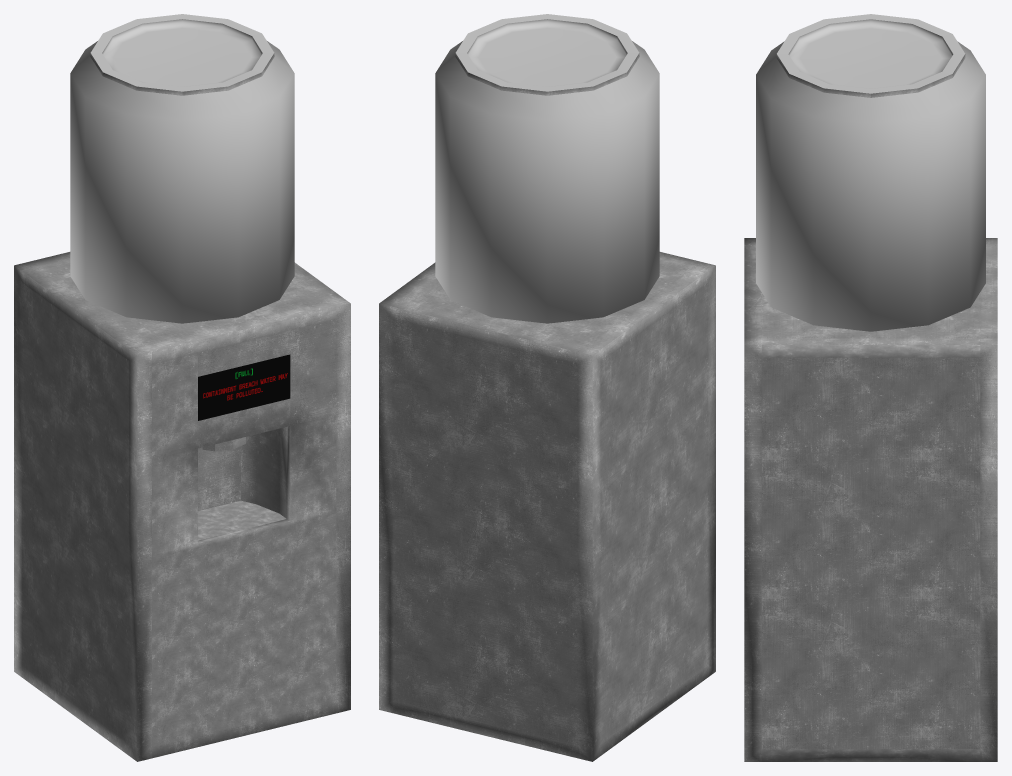
Rendered from WaterDispenser_Total.obj.
3 renders of one model, left to right at view 1: azimuth 30°, elevation 25°; view 2: azimuth 150°, elevation 25°; view 3: azimuth 270°, elevation 25°, orthographic. The views are drawn at different scales.
Parts seen in each view (by area): view 1: WaterDispenser_Total; view 2: WaterDispenser_Total; view 3: WaterDispenser_Total.
Boxes of the visible parts, left/top/right/bottom form: WaterDispenser_Total: left=14, top=14, right=350, bottom=761; WaterDispenser_Total: left=379, top=14, right=715, bottom=761; WaterDispenser_Total: left=744, top=14, right=997, bottom=761.
Size of the model in its own units: 0.55 by 1.57 by 0.55.
